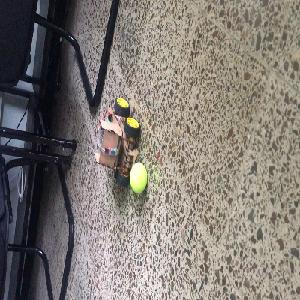Ball: (128, 162, 148, 195)
Robot: (92, 98, 140, 186)
